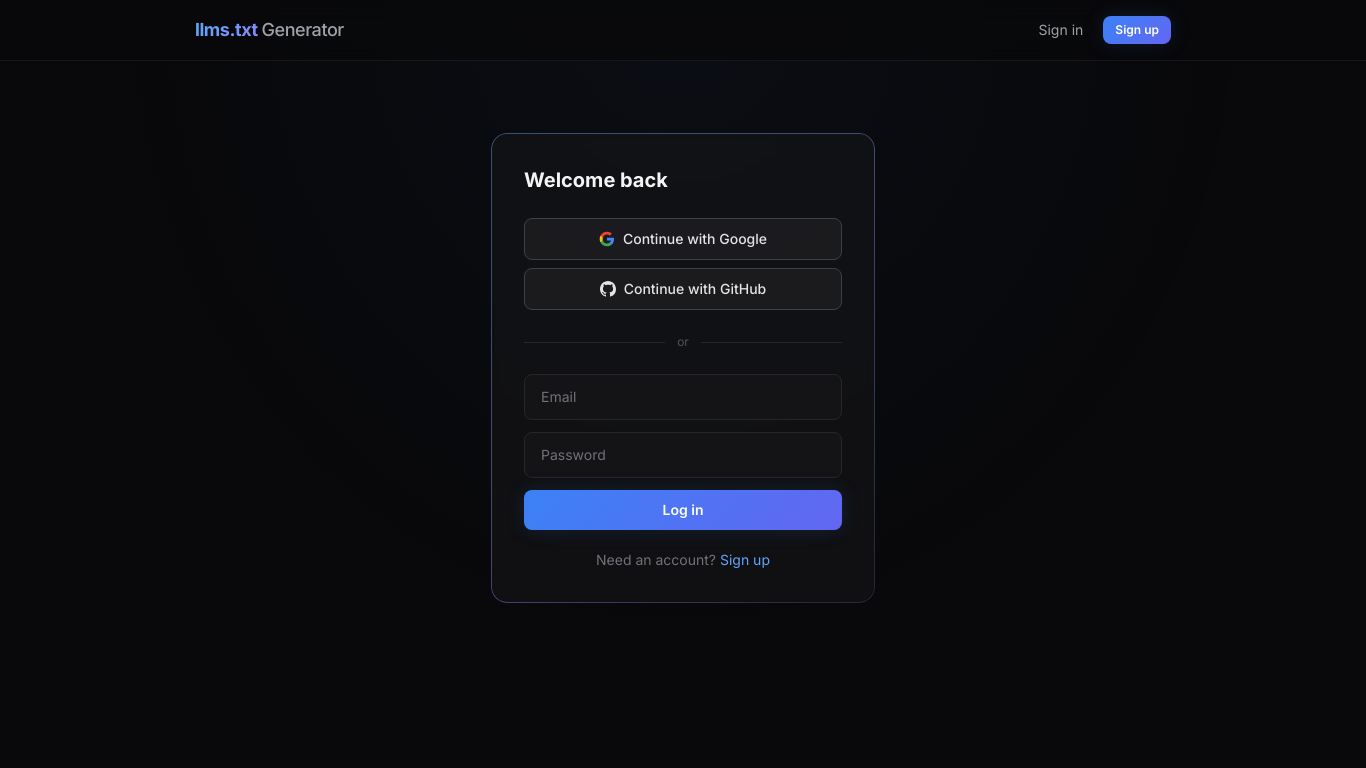
it: LoginPage › displays an error message on failure
Type "a@b.com" into the field with placeholder "Email" at (683,397), box [524, 374, 842, 420]
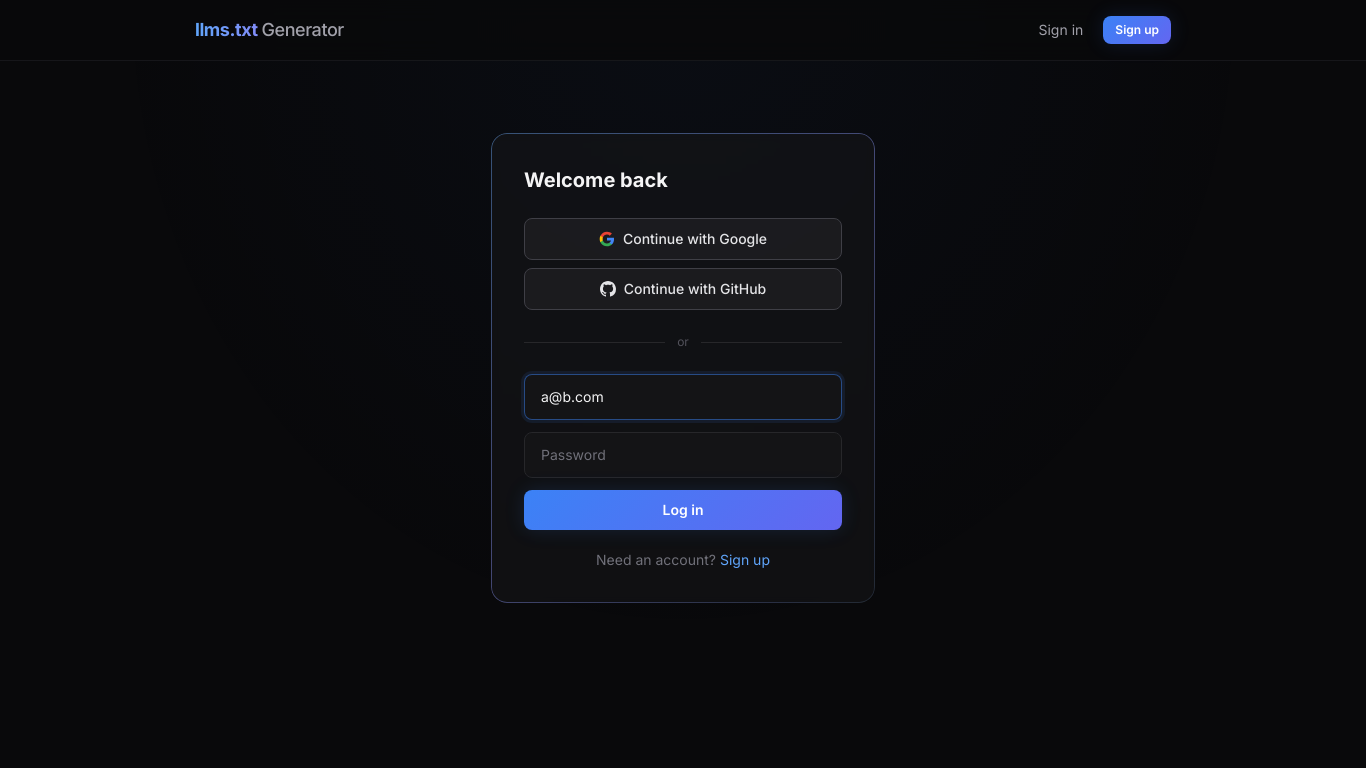
Type "password123" into the password field with placeholder "Password" at (683,455), box [524, 432, 842, 478]
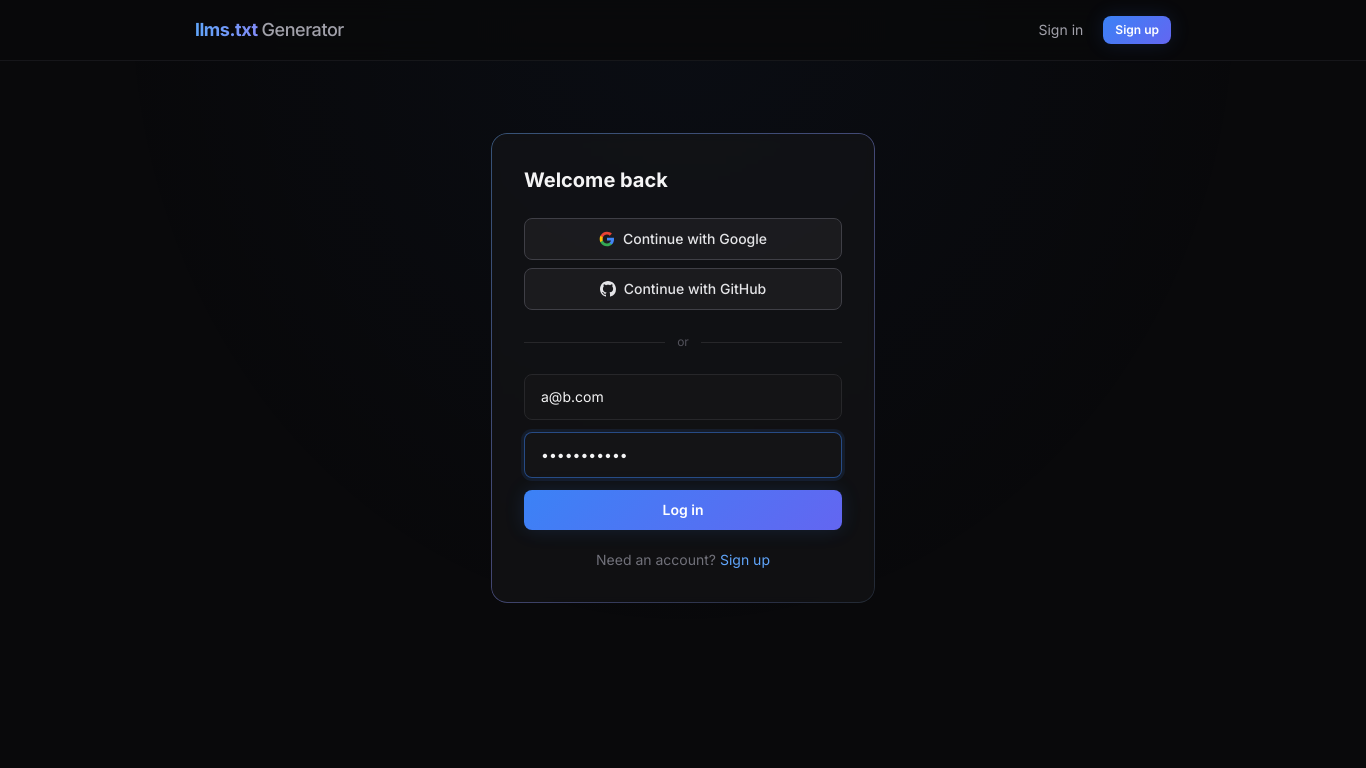
Click the button "Log in" at (683,510), box [524, 490, 842, 530]
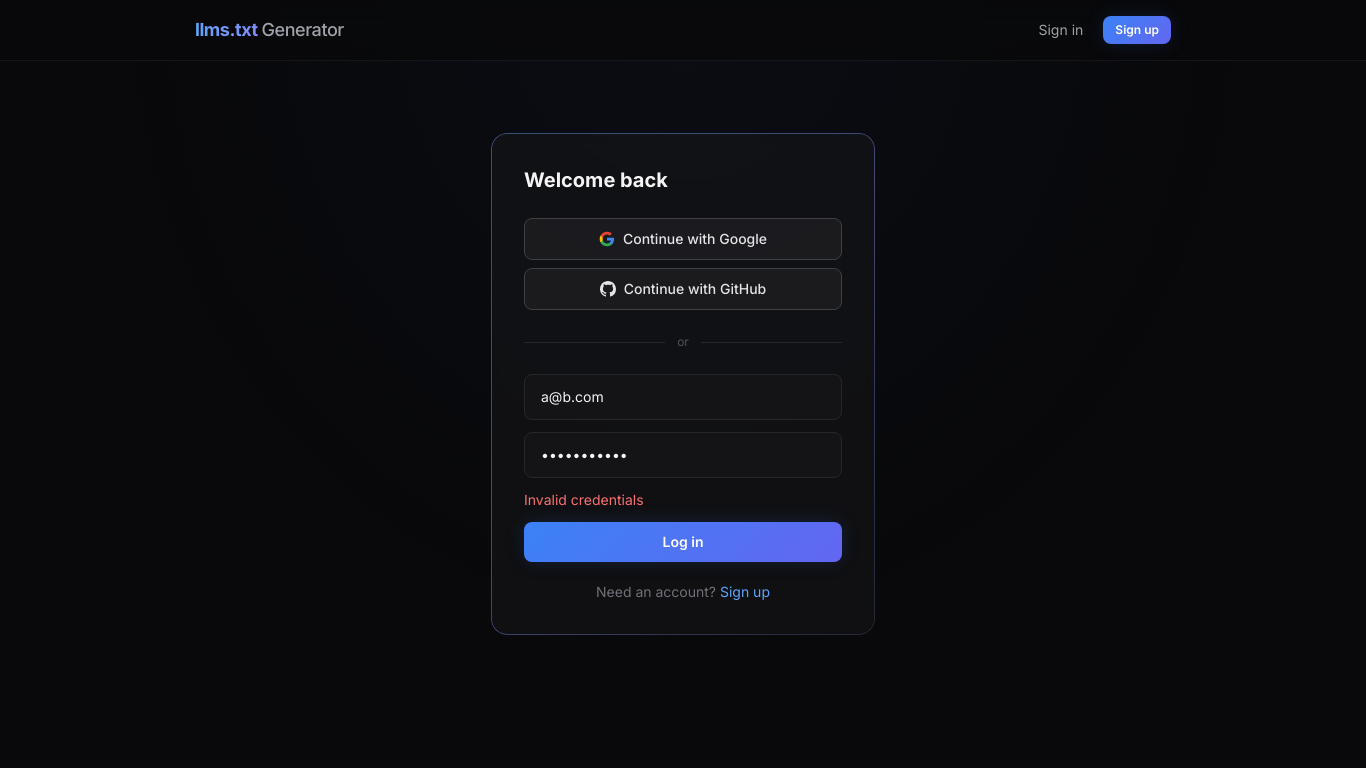
expect the text "Invalid credentials" is shown: met, box [524, 491, 644, 508]
